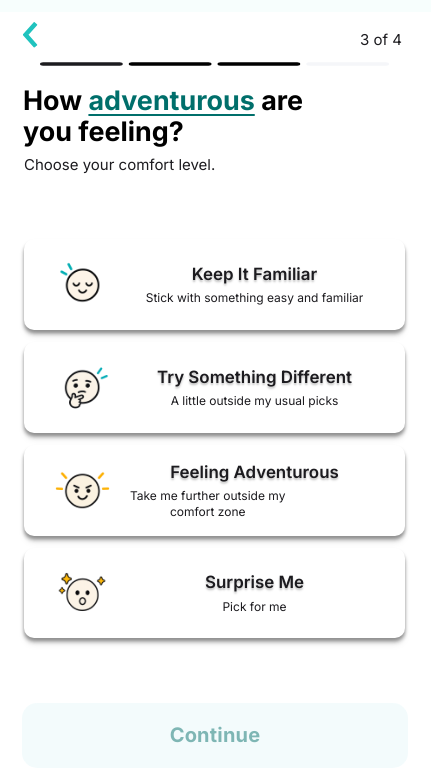
Test: mobile acceptance regressions › keeps Continue after the flexible options and keyboard accessible on /discover/adventure
Click the button "Keep It Familiar Stick with something easy and familiar": (214, 284) [24,239,405,330]
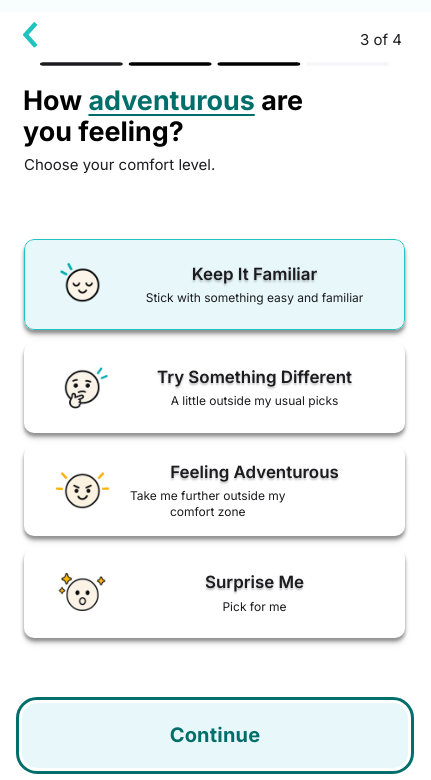
Result: the button with class "discovery-cta" is enabled at [22,703,408,768]
